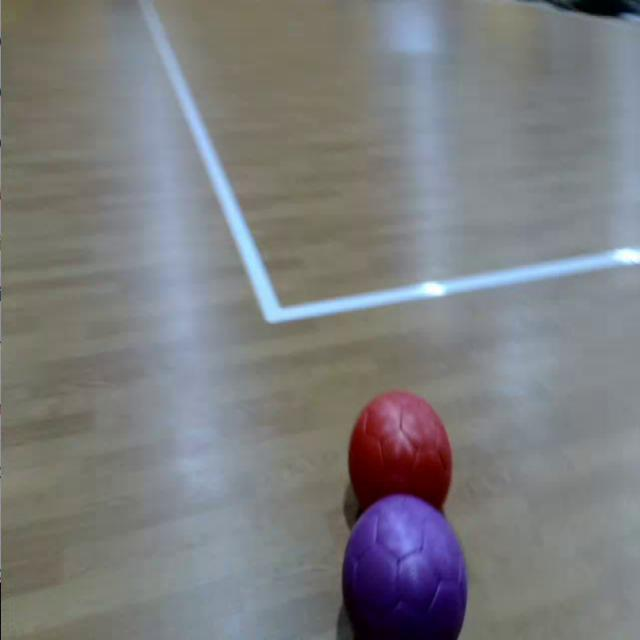purple_ball: (343, 498, 466, 640)
red_ball: (348, 390, 452, 516)
